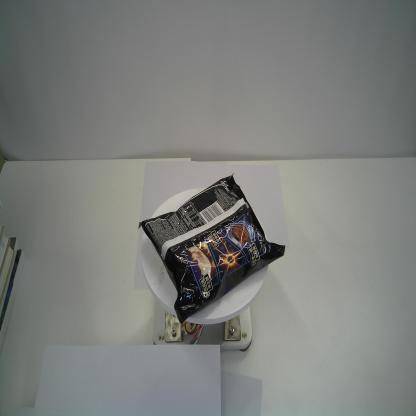Instant Noodles: (138, 172, 286, 325)
